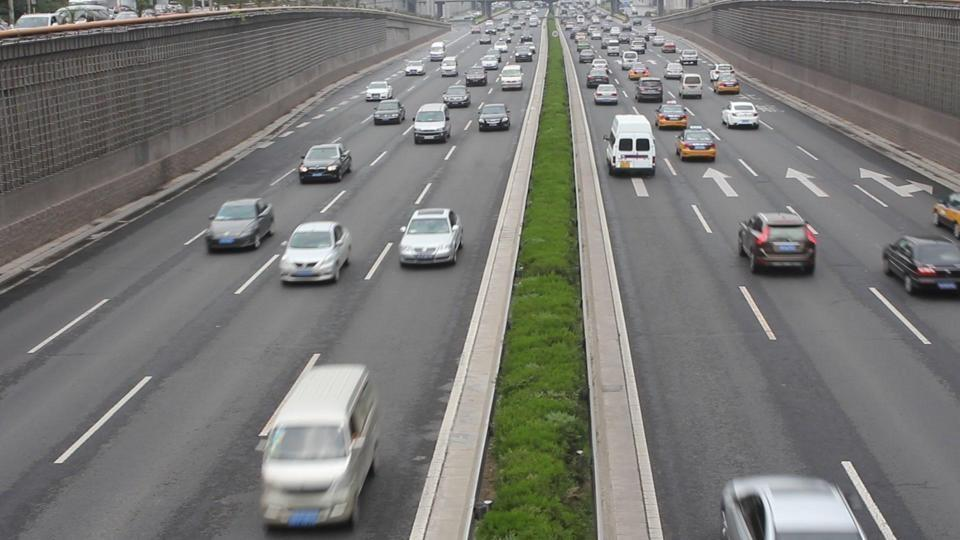car: (256, 354, 382, 532), (719, 473, 866, 539), (736, 209, 819, 276), (881, 235, 960, 296), (278, 220, 352, 284), (205, 198, 276, 254), (398, 208, 464, 266), (604, 115, 658, 178), (297, 142, 353, 184), (412, 103, 452, 145), (674, 126, 719, 162), (720, 101, 761, 130), (932, 192, 960, 232), (477, 102, 511, 131), (655, 102, 690, 130), (710, 64, 741, 95), (371, 99, 406, 123), (499, 65, 525, 92), (678, 72, 704, 99), (635, 78, 664, 102), (364, 80, 393, 103), (443, 85, 472, 108), (593, 83, 620, 106), (463, 64, 488, 86), (586, 71, 609, 87), (440, 58, 458, 77), (679, 49, 698, 65)
